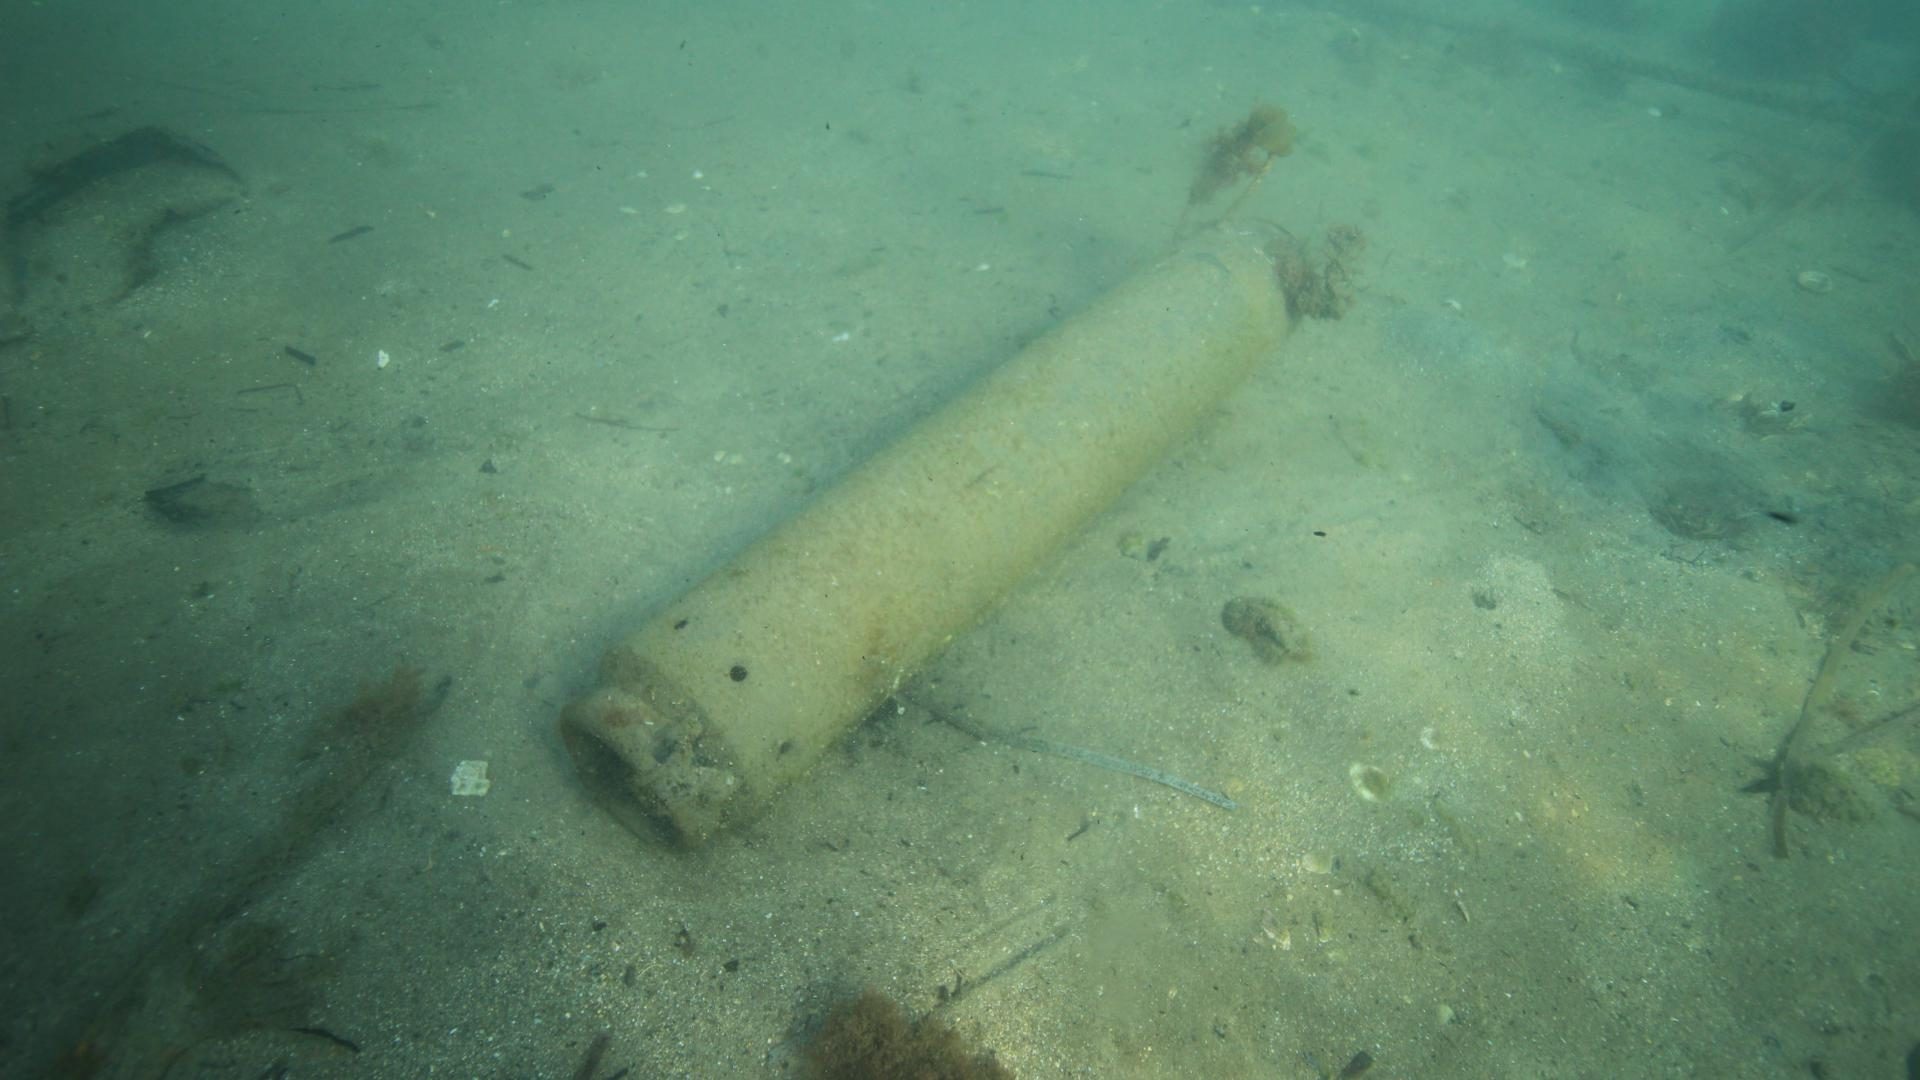eel fish trap: (555, 229, 1286, 852)
